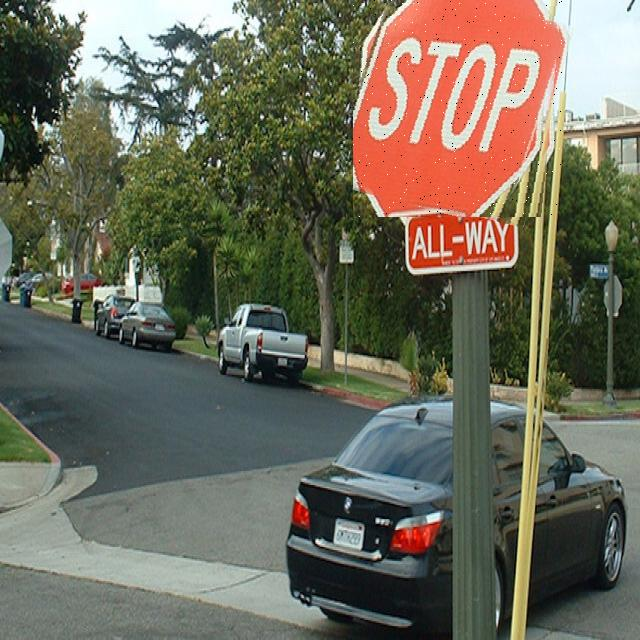stop: (353, 0, 562, 217)
